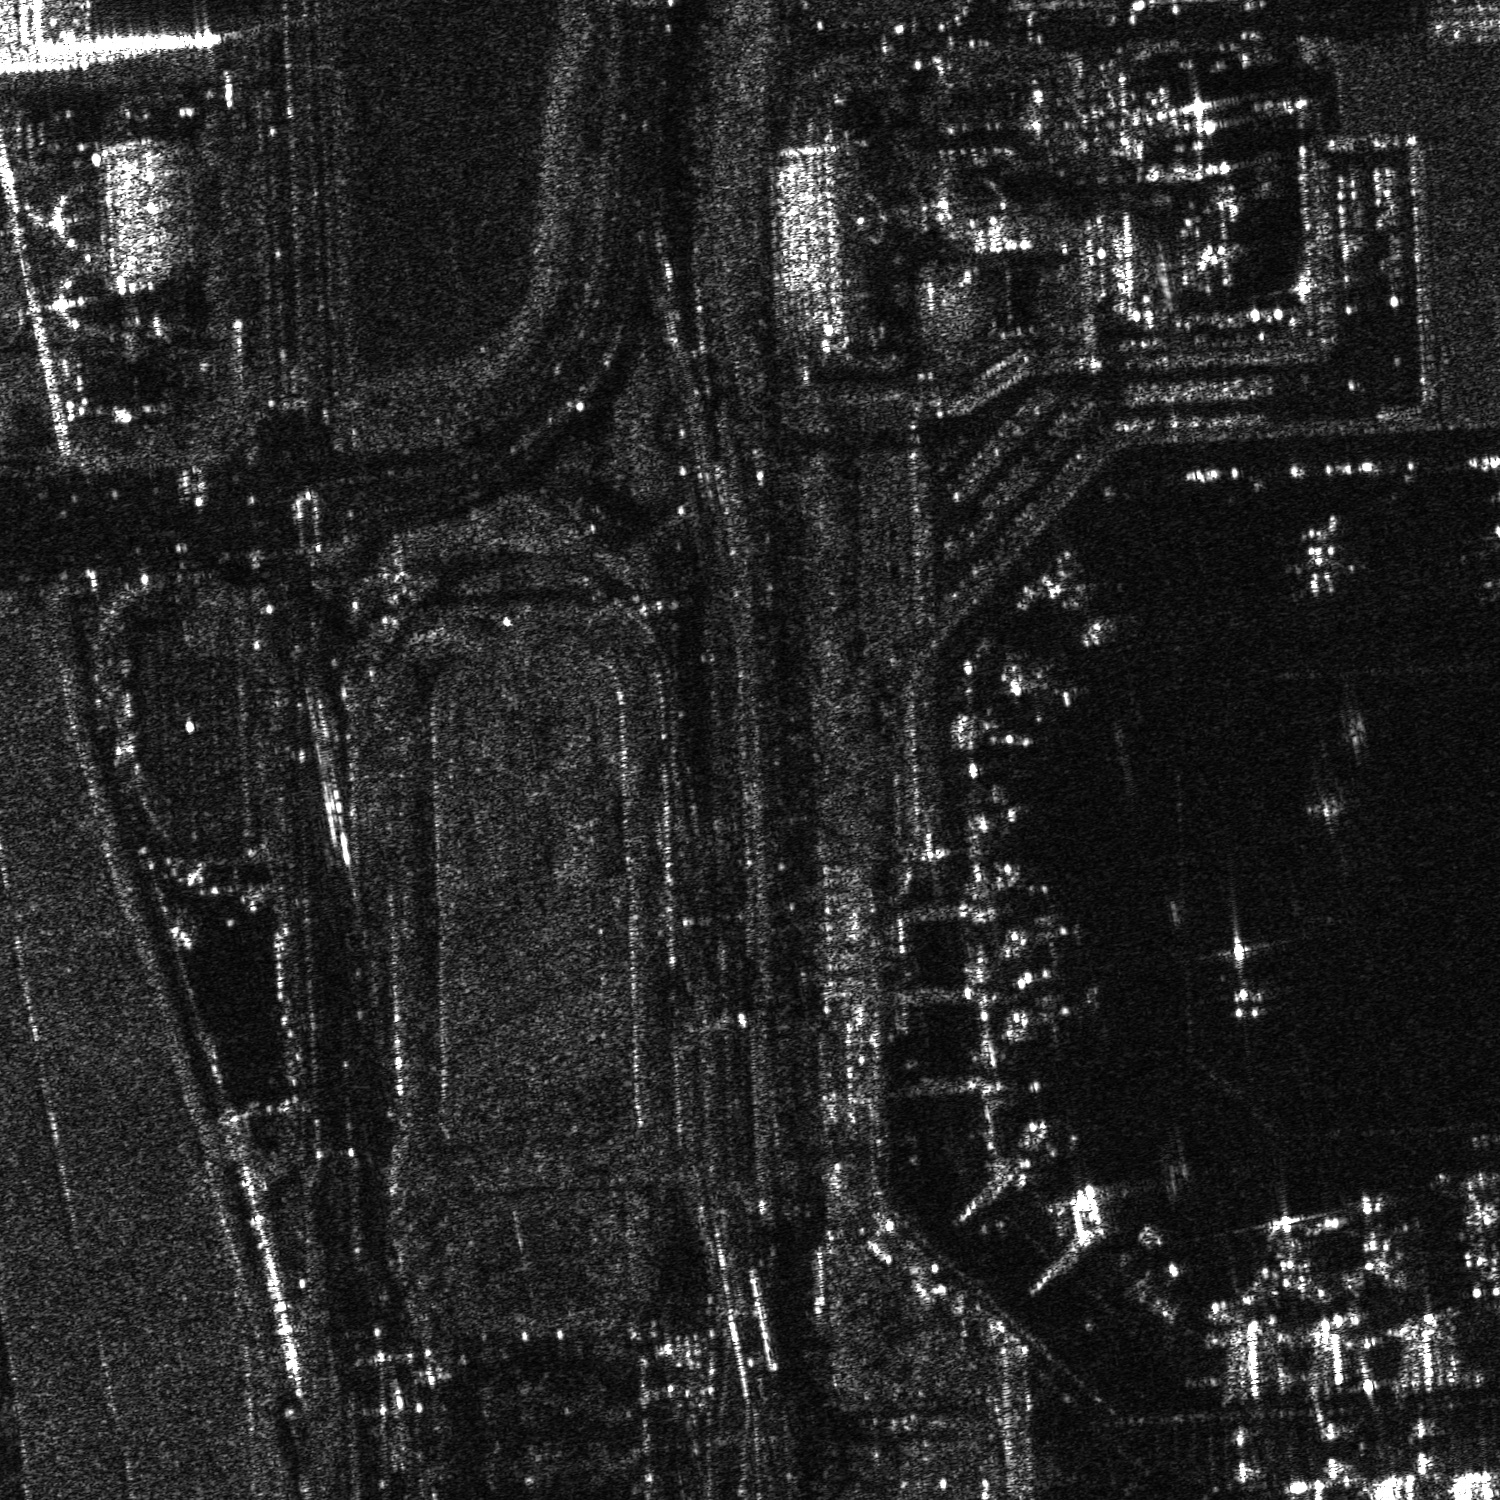A220: (1235, 1206, 1332, 1302), (1012, 977, 1107, 1051), (1037, 578, 1128, 648), (1003, 657, 1089, 727), (1005, 898, 1091, 964)
Boeing737: (1183, 933, 1313, 1023), (1273, 510, 1370, 603)
other: (1335, 1190, 1431, 1288), (1302, 777, 1364, 837)
